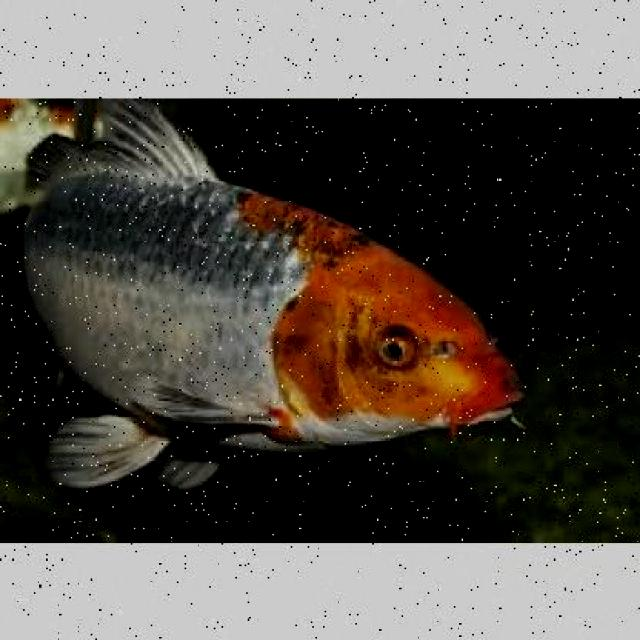ikan-mas: (21, 120, 517, 477)
